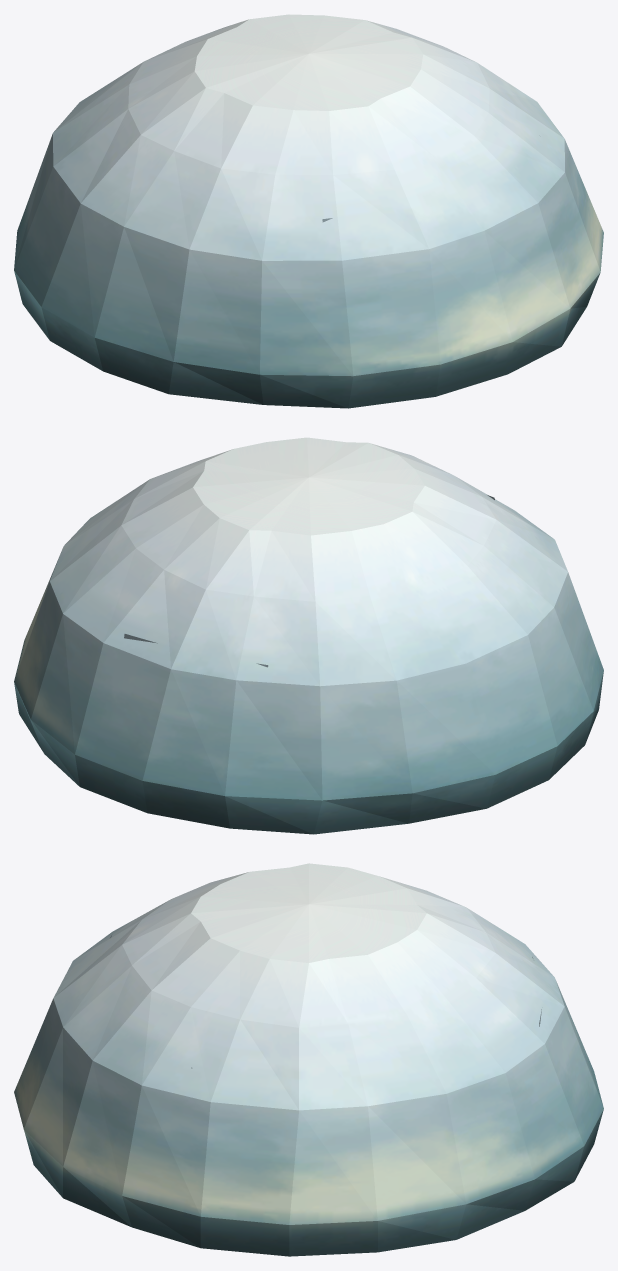
Rendered from C1_OnPatrol_skydome.obj.
3 views of the same model, one above another, from view 1: azimuth 30°, elevation 25°; view 2: azimuth 150°, elevation 25°; view 3: azimuth 270°, elevation 25° (orthographic).
Visible parts, largest first — view 1: Node 0; view 2: Node 0; view 3: Node 0.
Boxes of the visible parts, left/top/right/bottom form: Node 0: left=14, top=14, right=603, bottom=408; Node 0: left=14, top=437, right=603, bottom=834; Node 0: left=14, top=863, right=603, bottom=1256.
Bounding box in the file's own units: 0.6 × 0.26 × 0.6.
Materials: 8 (8 with a texture image).
